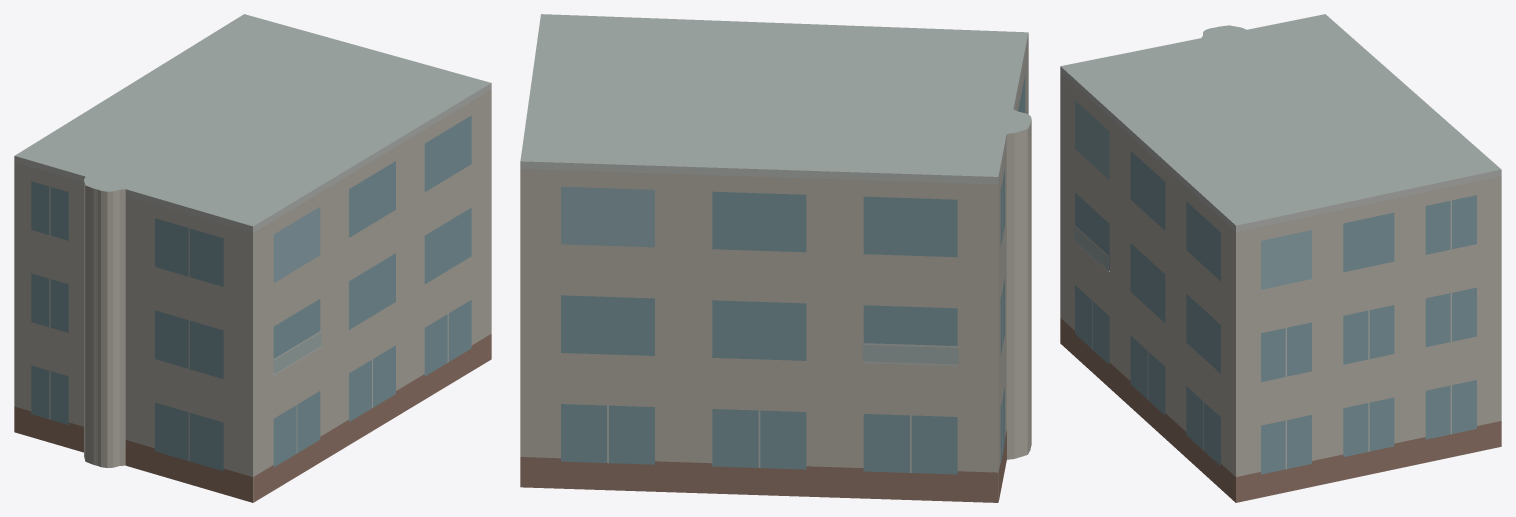
Rendered from survey-upis-32470513.glb.
3 views of the same model, side by side, from view 1: azimuth 30°, elevation 25°; view 2: azimuth 150°, elevation 25°; view 3: azimuth 270°, elevation 25° (orthographic). The views are drawn at different scales.
Visible parts, largest first — view 1: survey-upis-32470513.tmp; view 2: survey-upis-32470513.tmp; view 3: survey-upis-32470513.tmp.
Boxes of the visible parts, <box> form: survey-upis-32470513.tmp: <box>14,14,491,502</box>; survey-upis-32470513.tmp: <box>520,14,1031,502</box>; survey-upis-32470513.tmp: <box>1060,14,1501,502</box>.
Bounding box in the file's own units: 17.21 × 10.5 × 15.15.
